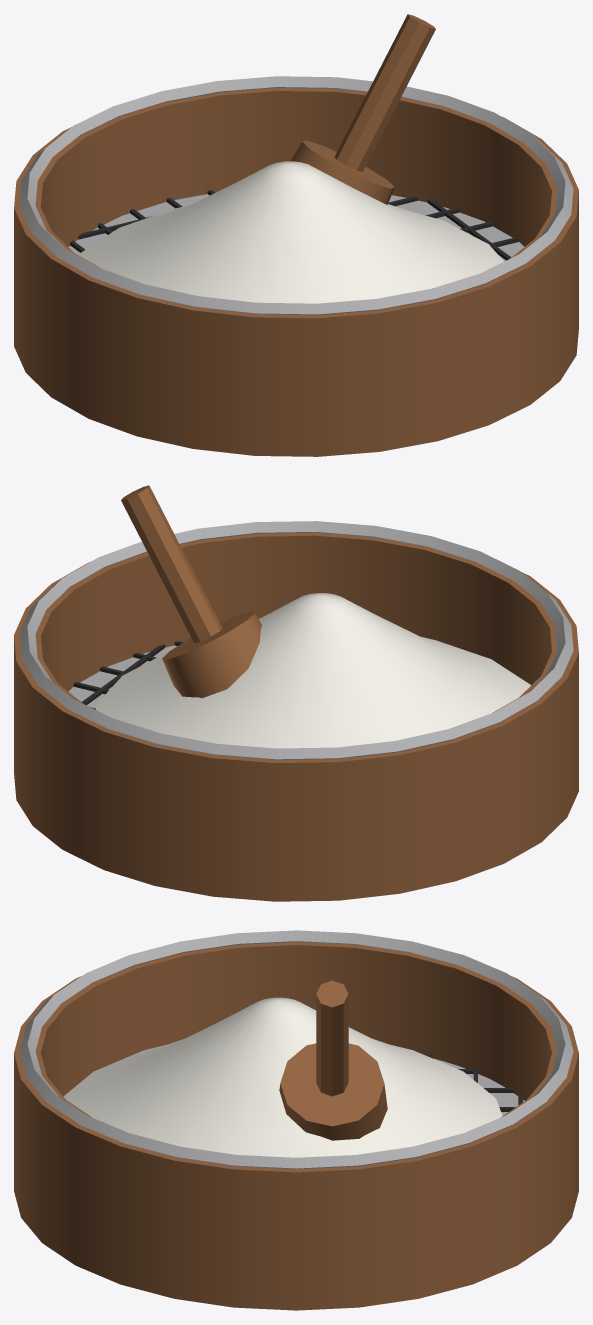
Rendered from cook_flour.glb.
The picture shows the model from 3 angles, top to bottom: view 1: azimuth 30°, elevation 25°; view 2: azimuth 150°, elevation 25°; view 3: azimuth 270°, elevation 25°; orthographic projection.
Visible parts, largest first — view 1: body; view 2: body; view 3: body.
Part boxes in pixels (x1=…): body: x1=14, y1=14, x2=578, y2=456; body: x1=14, y1=485, x2=578, y2=901; body: x1=14, y1=930, x2=578, y2=1310.
Bounding box in the file's own units: 0.063 × 0.0338 × 0.063.
